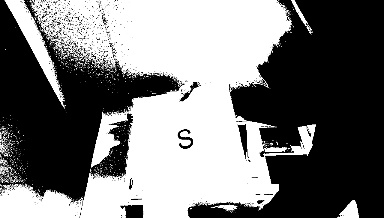S: (173, 127, 196, 148)
